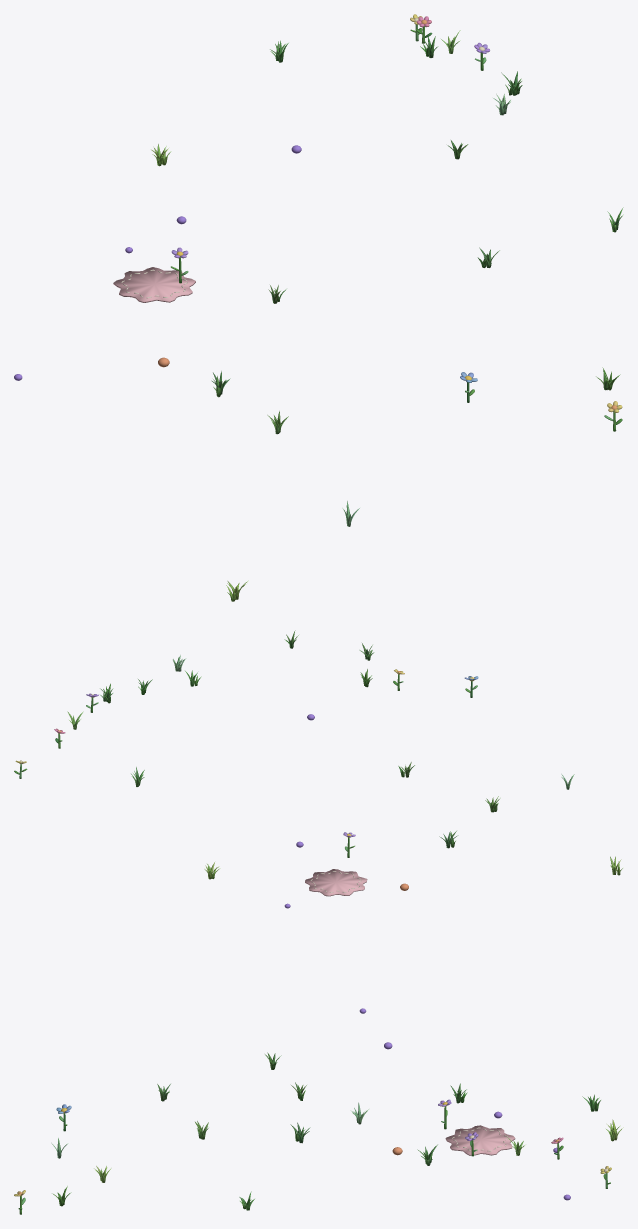
File: W1_FloraRing_8_10.fbx
3 renders of one model, top to bottom at view 1: azimuth 30°, elevation 25°; view 2: azimuth 150°, elevation 25°; view 3: azimuth 270°, elevation 25°, orthographic. The views are drawn at different scales.
Parts seen in each view (by area): view 1: W1_FloraRing_8_10; view 2: W1_FloraRing_8_10; view 3: W1_FloraRing_8_10.
Part boxes in pixels (left/top/right/bottom): W1_FloraRing_8_10: left=14, top=14, right=623, bottom=601; W1_FloraRing_8_10: left=14, top=630, right=622, bottom=1013; W1_FloraRing_8_10: left=14, top=1042, right=623, bottom=1214.
Size of the model in its own units: 3.15 by 1.89 by 3.95.
